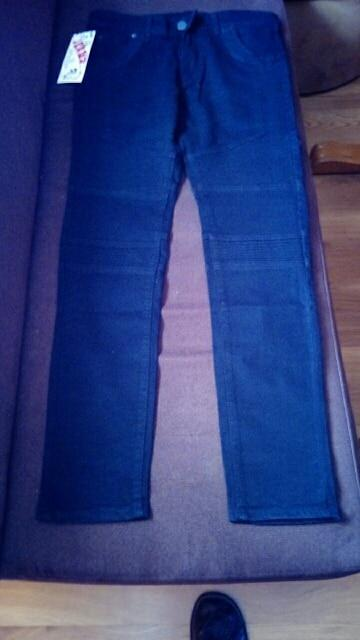jeans: (27, 15, 343, 529)
